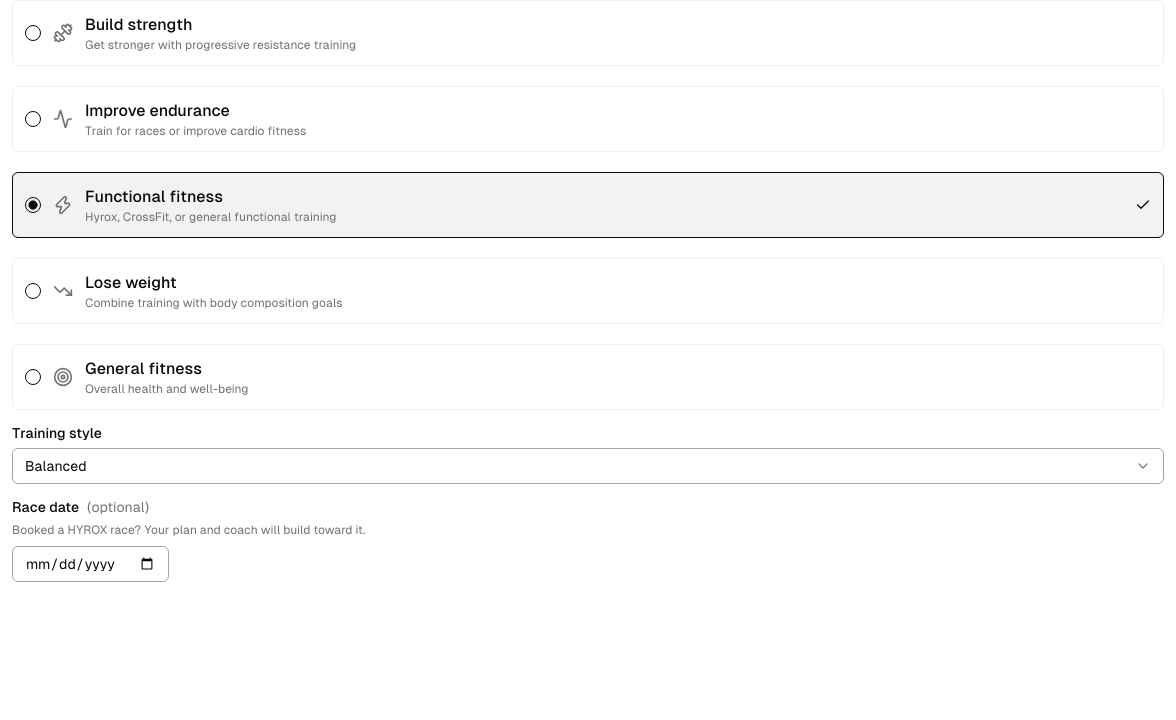
Test: GoalStep race date › takes a cleared date: the race is optional
The width and height of the screenshot is (1176, 720).
Step 1. Type "2025-11-15" into the date field labelled "Race date (optional)" → (90, 564), box [12,546,169,582]
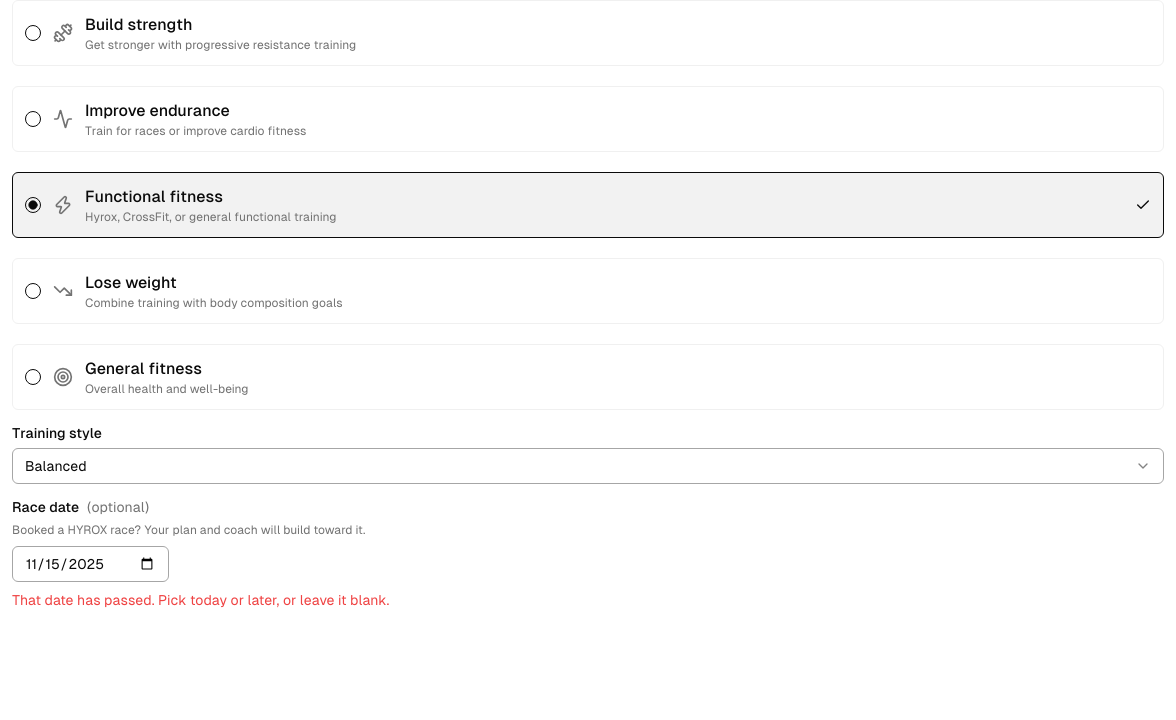
Step 2. Clear the date field labelled "Race date (optional)" → (90, 564), box [12,546,169,582]
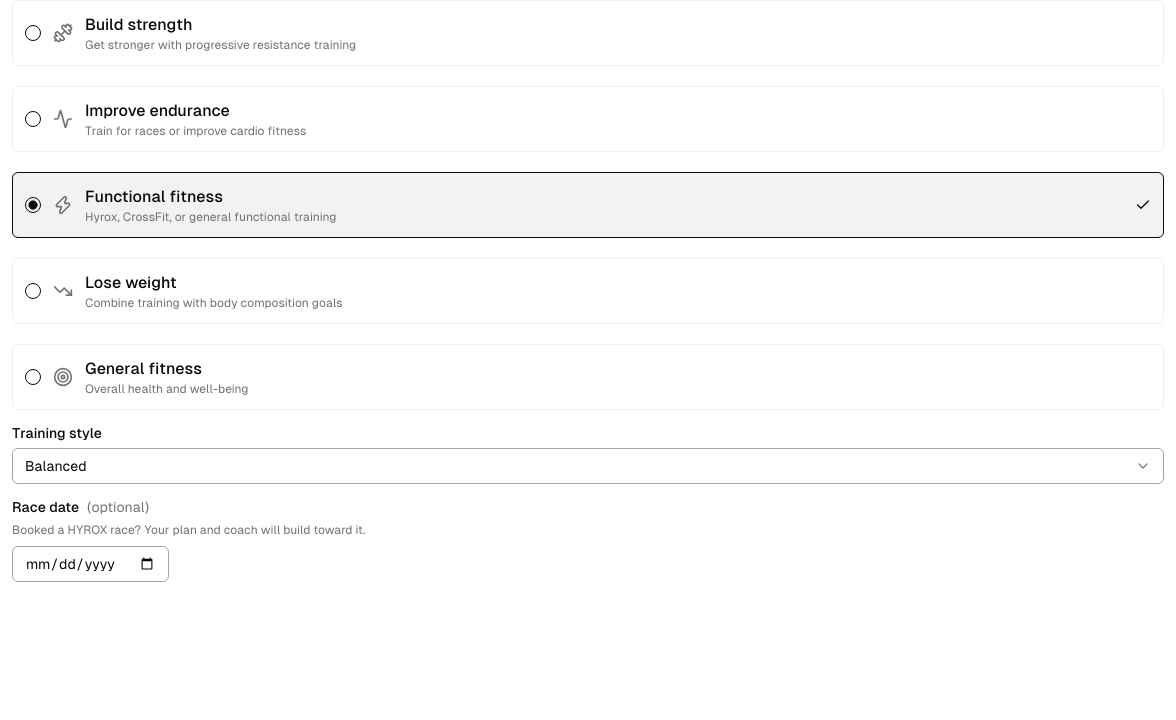
Result: the message "That date has passed. Pick today or later, or leave it blank." is gone
